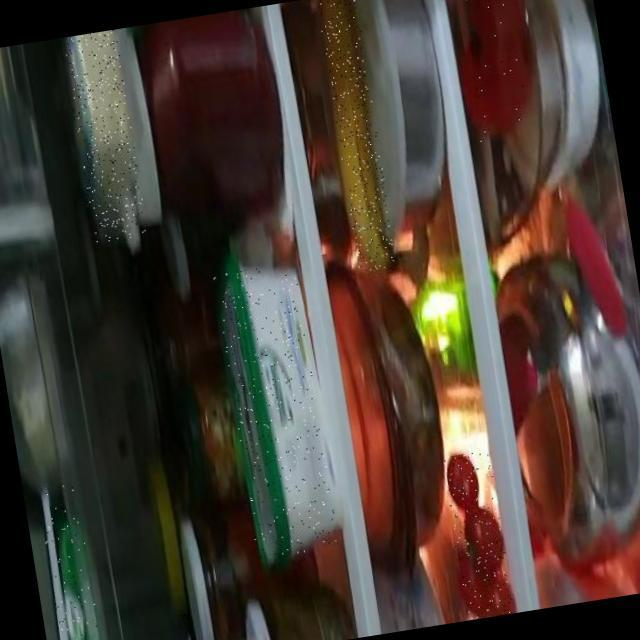Plátano: (315, 0, 398, 275)
Queso: (213, 263, 339, 560), (62, 29, 148, 243)
cream: (37, 481, 106, 640)
tomato paste: (443, 450, 514, 621), (452, 0, 535, 142)
